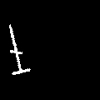double_crochet: (9, 25, 29, 74)
